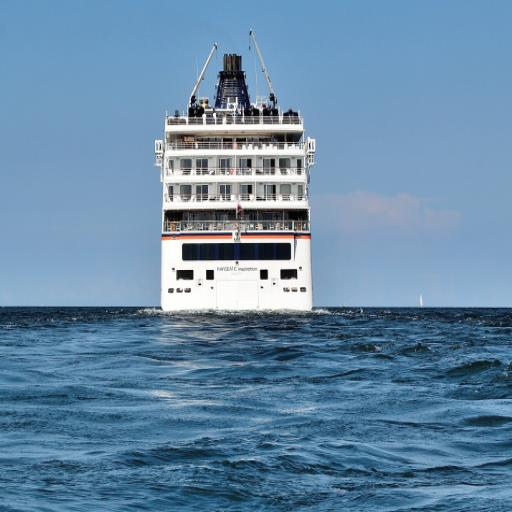cruises: (152, 33, 318, 324)
